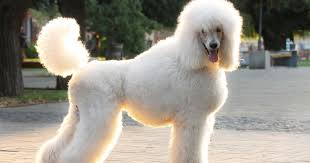Poodle: (24, 2, 252, 163)
